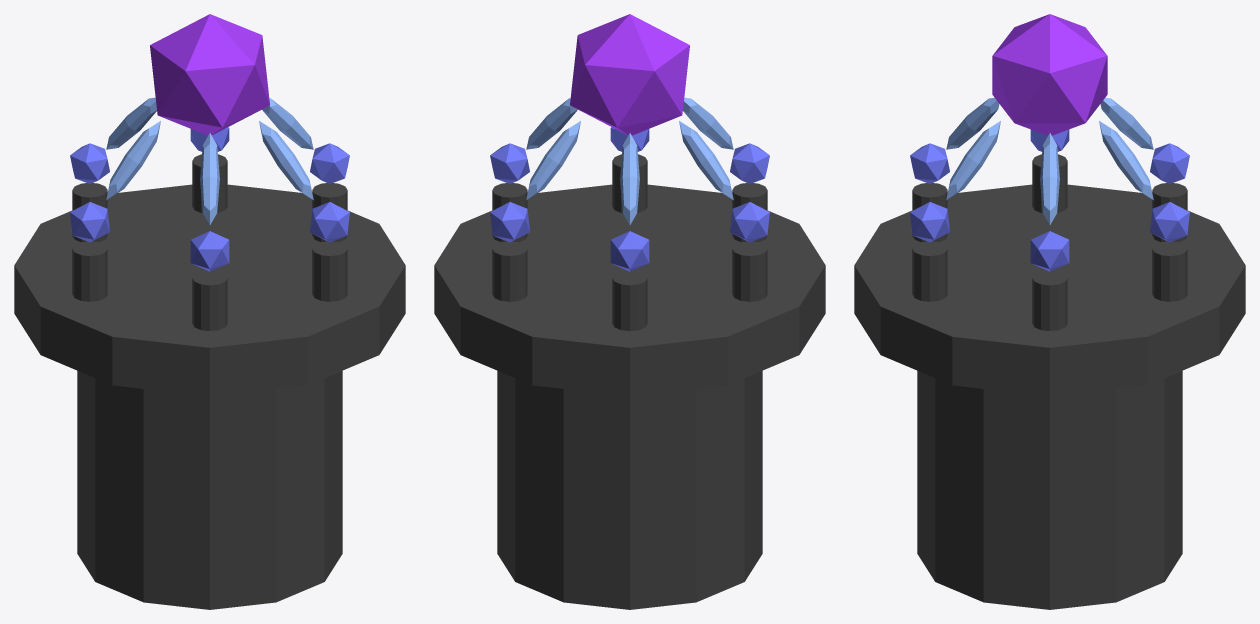
File: makictower.fbx
The picture shows the model from 3 angles, left to right: view 1: azimuth 30°, elevation 25°; view 2: azimuth 150°, elevation 25°; view 3: azimuth 270°, elevation 25°; orthographic projection.
Parts seen in each view (by area): view 1: Cylinder, Icosphere, Cylinder.002, Icosphere.003, Cube.004; view 2: Cylinder, Icosphere, Cylinder.002, Icosphere.003, Cube.004; view 3: Cylinder, Icosphere, Cylinder.002, Icosphere.003, Cube.004.
Boxes of the visible parts, <box> form: Cylinder: <box>14,184,405,609</box>; Icosphere: <box>150,14,269,135</box>; Cylinder.002: <box>72,154,347,330</box>; Icosphere.003: <box>70,127,349,271</box>; Cube.004: <box>106,97,313,224</box>; Cylinder: <box>434,184,825,609</box>; Icosphere: <box>570,14,689,135</box>; Cylinder.002: <box>492,154,767,330</box>; Icosphere.003: <box>490,127,769,271</box>; Cube.004: <box>526,97,733,224</box>; Cylinder: <box>854,184,1245,609</box>; Icosphere: <box>992,14,1107,135</box>; Cylinder.002: <box>912,154,1187,330</box>; Icosphere.003: <box>910,129,1189,271</box>; Cube.004: <box>946,97,1153,224</box>.
Size of the model in its own units: 295 by 450 by 295.
